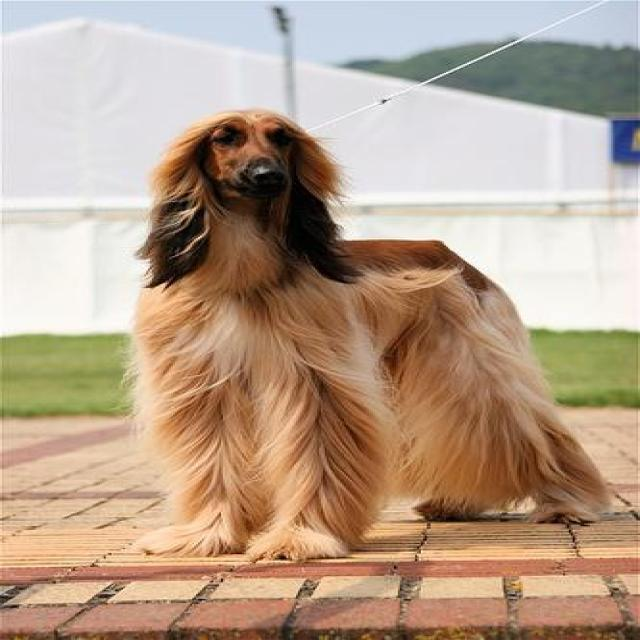afghan_hound: (119, 105, 619, 561)
